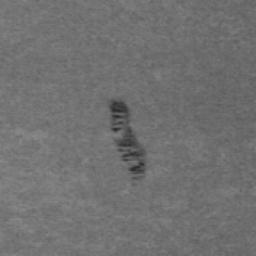Secondary rust skin: (108, 102, 145, 187)
